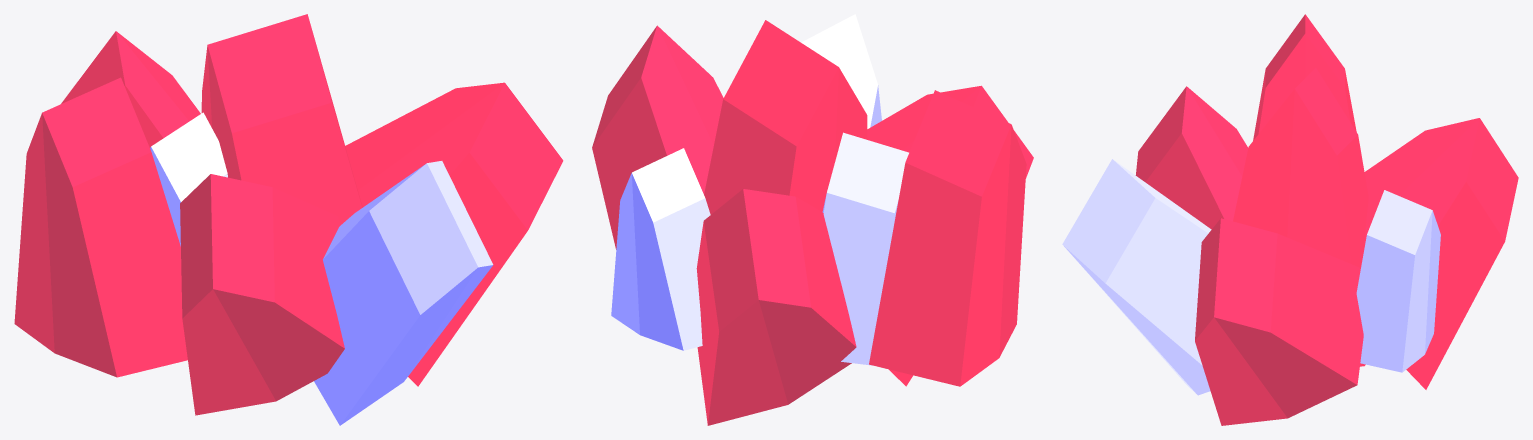
Rendered from crystal 1.fbx.
3 views of the same model, side by side, from view 1: azimuth 30°, elevation 25°; view 2: azimuth 150°, elevation 25°; view 3: azimuth 270°, elevation 25° (orthographic). The views are drawn at different scales.
Parts seen in each view (by area): view 1: Rock_Type3_04_mesh; view 2: Rock_Type3_04_mesh; view 3: Rock_Type3_04_mesh.
Boxes of the visible parts, bbox=[...] form: Rock_Type3_04_mesh: bbox=[14, 14, 563, 425]; Rock_Type3_04_mesh: bbox=[592, 14, 1033, 425]; Rock_Type3_04_mesh: bbox=[1062, 14, 1518, 425].
Bounding box in the file's own units: 773 × 565 × 758.
